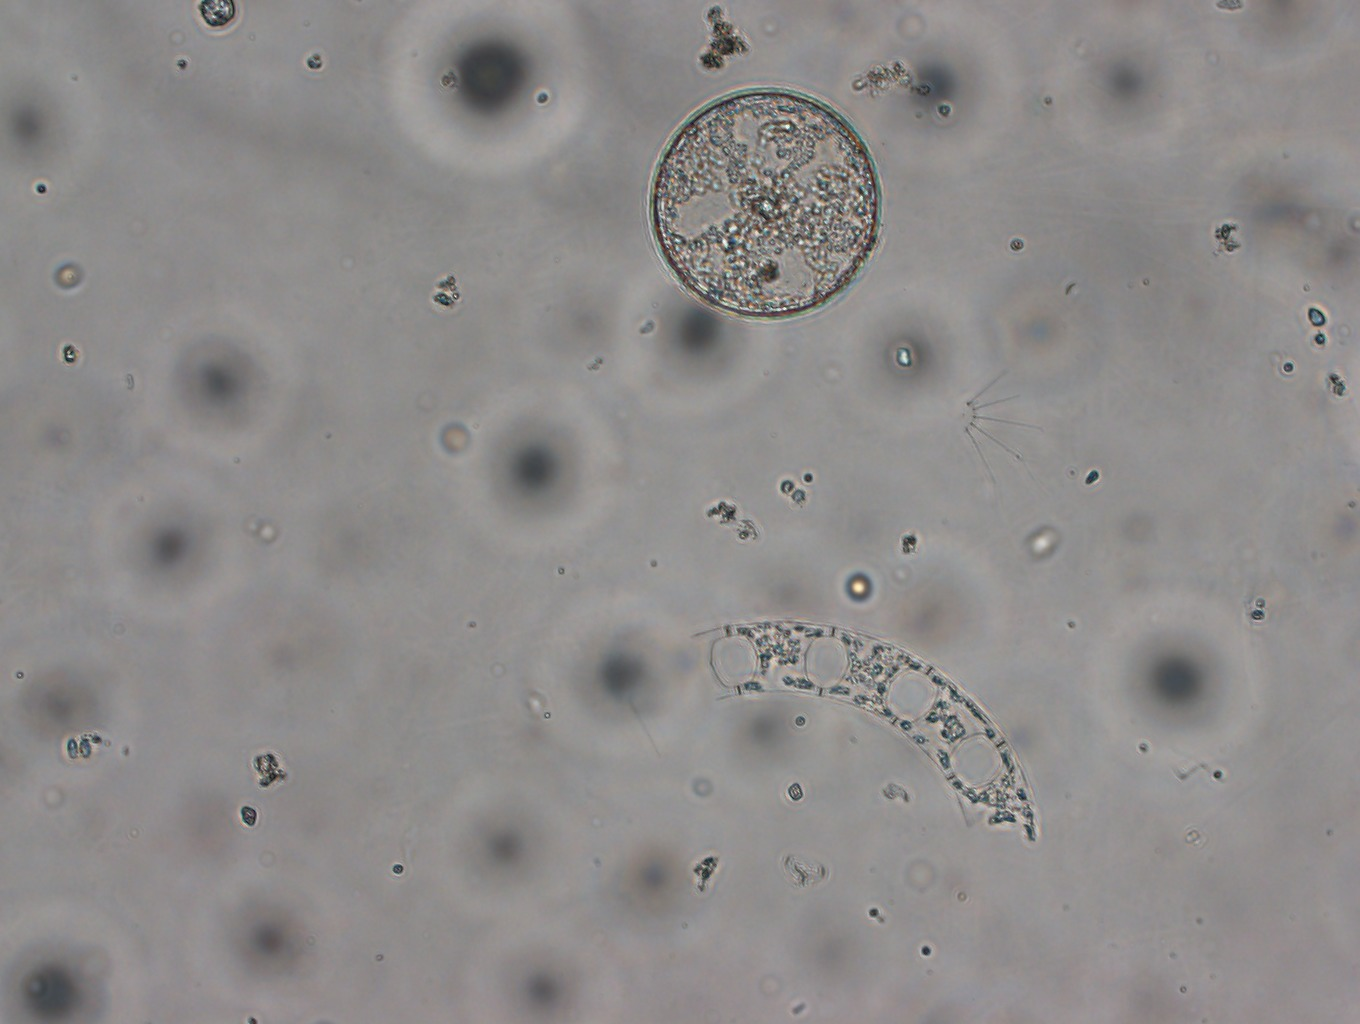coscinodiscus: (647, 86, 883, 323)
eucampia: (689, 617, 1037, 845)
